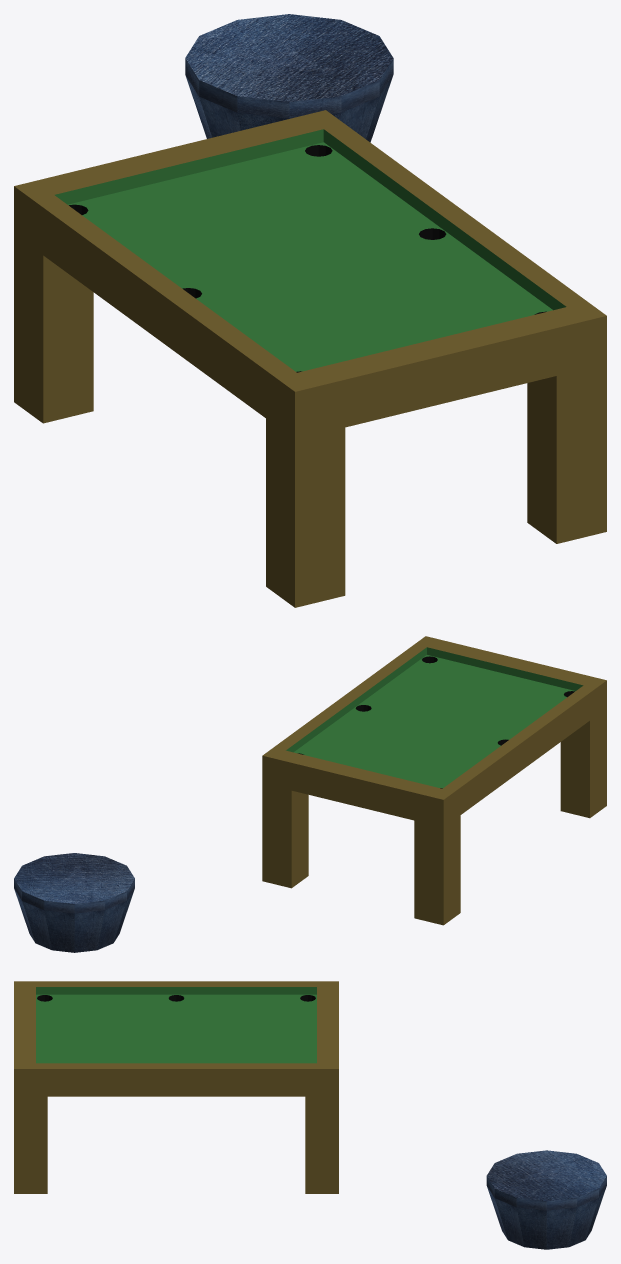
Rendered from Mesa_Sinuca.fbx.
3 renders of one model, top to bottom at view 1: azimuth 30°, elevation 25°; view 2: azimuth 150°, elevation 25°; view 3: azimuth 270°, elevation 25°, orthographic. The views are drawn at different scales.
Parts seen in each view (by area): view 1: Mesa_Sinuca, Pouff; view 2: Mesa_Sinuca, Pouff; view 3: Mesa_Sinuca, Pouff.
Boxes of the visible parts, left/top/right/bottom form: Mesa_Sinuca: left=14, top=110, right=606, bottom=607; Pouff: left=185, top=14, right=393, bottom=142; Mesa_Sinuca: left=262, top=636, right=606, bottom=925; Pouff: left=14, top=853, right=134, bottom=952; Mesa_Sinuca: left=14, top=981, right=338, bottom=1193; Pouff: left=486, top=1150, right=606, bottom=1249.
Size of the model in its own units: 481 by 182 by 784.
